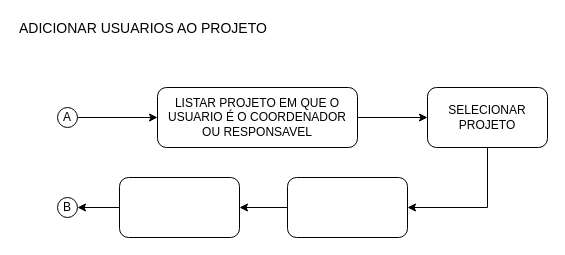
Some shapes in this 565 by 255 pixel diagram are drawn without their labels. The shapes that lost their labels are listed below. From the top down, each one's centre as x and y in pixels, then its label:
[179,207]: SALVAR
[347,207]: BUSCAR USUARIO
